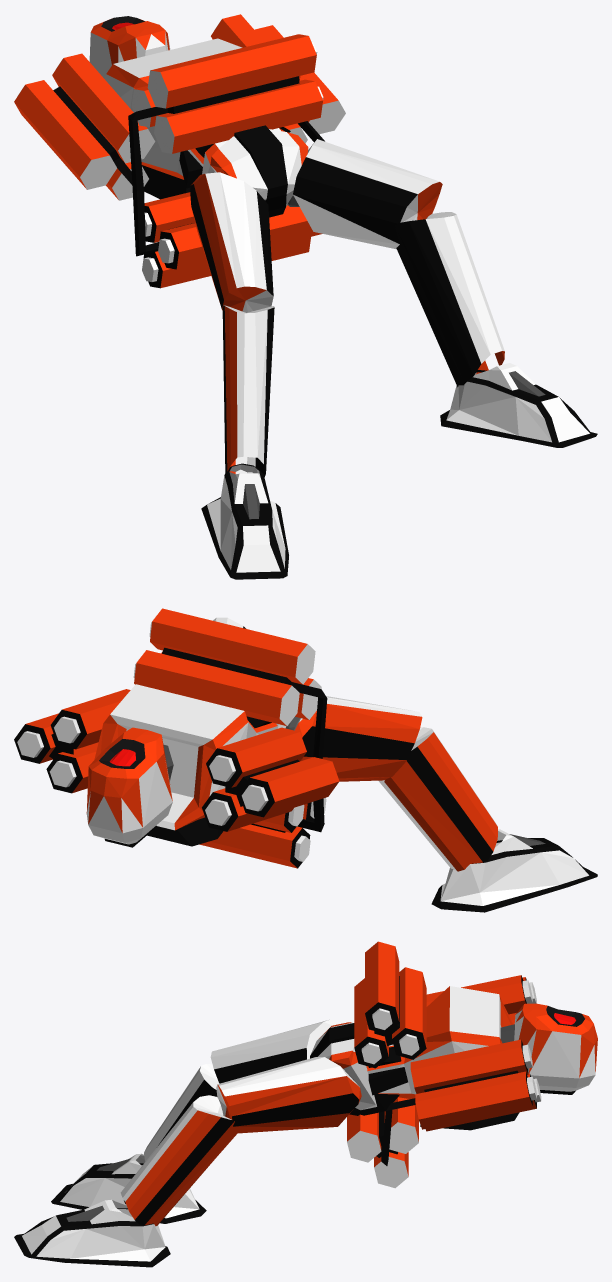
File: robots_000004.obj
3 views of the same model, one above another, from view 1: azimuth 30°, elevation 25°; view 2: azimuth 150°, elevation 25°; view 3: azimuth 270°, elevation 25° (orthographic). The views are drawn at different scales.
Parts seen in each view (by area): view 1: Cylinder.004_Cylinder.006, R_Thigh.002_Cube.027, R_Shin.002_Cube.029, R_Thigh_Cube.005, R_Foot.002_Cube.035, R_Shin_Cube.007, R_Foot_Cube, Pelvis_Cube.006, Chest_plate_Cube.004, Head_base.002_Cube.030; view 2: Cylinder.004_Cylinder.006, Chest_plate_Cube.004, R_Shin_Cube.007, Head_base.002_Cube.030, R_Foot_Cube, R_Thigh_Cube.005; view 3: Cylinder.004_Cylinder.006, R_Thigh.002_Cube.027, R_Shin.002_Cube.029, R_Foot.002_Cube.035, Chest_plate_Cube.004, Head_base.002_Cube.030, R_Thigh_Cube.005, R_Foot_Cube, Pelvis_Cube.006, R_Shin_Cube.007.
Part boxes in pixels (x1,y1,x2,y2): Cylinder.004_Cylinder.006: (14,14,345,288); R_Thigh.002_Cube.027: (293,139,442,249); R_Shin.002_Cube.029: (395,212,504,387); R_Thigh_Cube.005: (190,172,273,312); R_Foot.002_Cube.035: (440,363,597,447); R_Shin_Cube.007: (222,305,274,477); R_Foot_Cube: (201,463,288,579); Pelvis_Cube.006: (202,125,308,217); Chest_plate_Cube.004: (104,38,290,199); Head_base.002_Cube.030: (89,16,170,78); Cylinder.004_Cylinder.006: (14,608,339,868); Chest_plate_Cube.004: (94,684,277,846); R_Shin_Cube.007: (378,727,497,871); Head_base.002_Cube.030: (86,727,172,847); R_Foot_Cube: (431,829,597,912); R_Thigh_Cube.005: (294,696,422,781); Cylinder.004_Cylinder.006: (347,941,541,1188); R_Thigh.002_Cube.027: (216,1057,361,1133); R_Shin.002_Cube.029: (120,1095,239,1226); R_Foot.002_Cube.035: (14,1199,170,1267); Chest_plate_Cube.004: (366,986,519,1130); Head_base.002_Cube.030: (514,1003,597,1094); R_Thigh_Cube.005: (210,1019,337,1083); R_Foot_Cube: (51,1153,206,1223); Pelvis_Cube.006: (310,1022,399,1115); R_Shin_Cube.007: (144,1064,219,1161).
Bounding box in the file's own units: 1.77 × 1.71 × 3.12.
